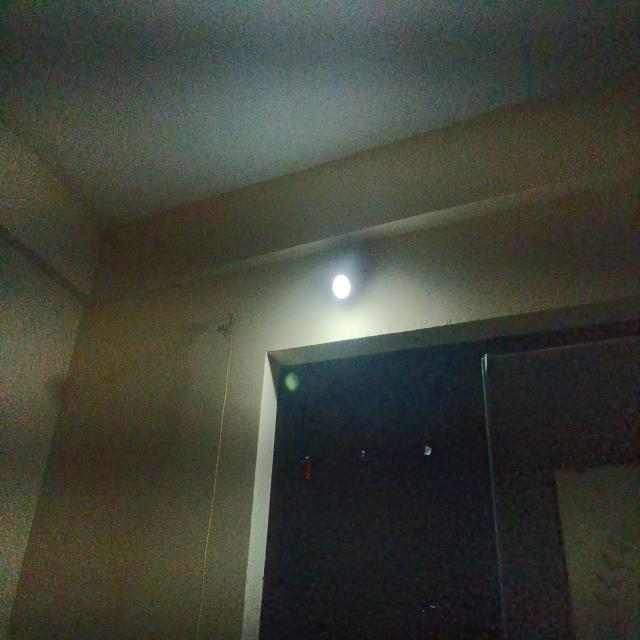bulb_on: (330, 272, 352, 301)
